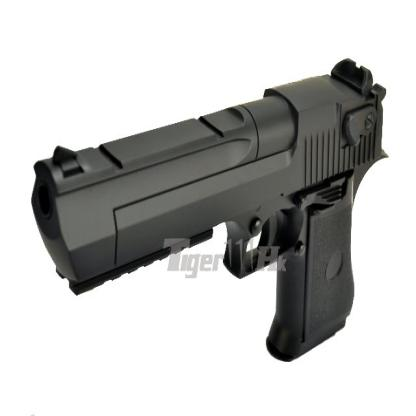handgun: (28, 54, 402, 364)
